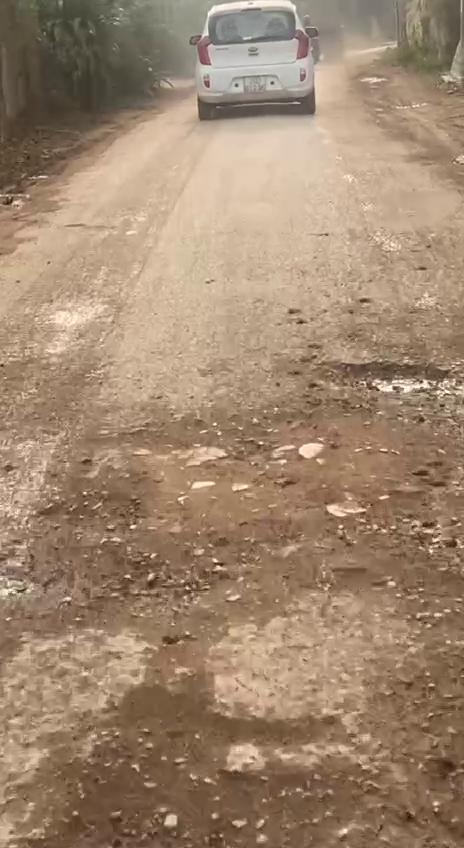pothole: (0, 675, 464, 848), (0, 487, 229, 628), (320, 354, 464, 407)
